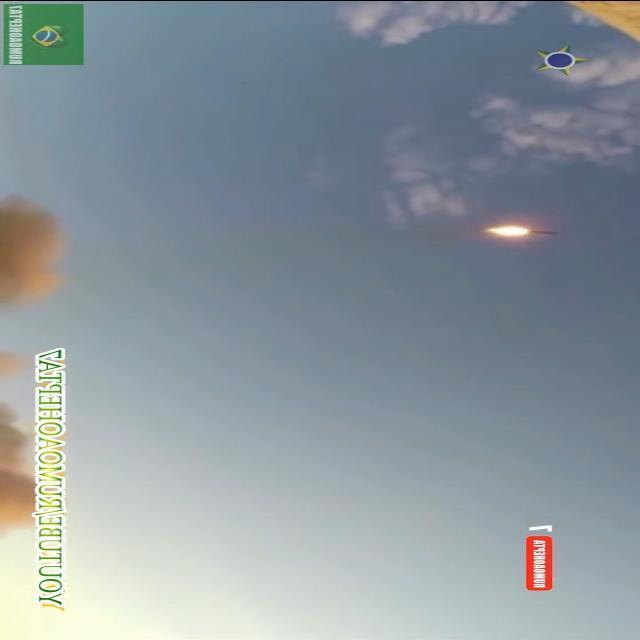Missile: (521, 228, 565, 236)
